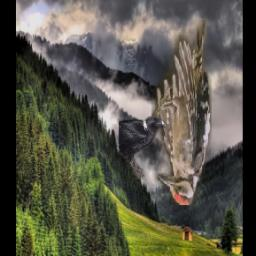Crow: (119, 115, 167, 180)
Woodpecker: (151, 21, 212, 206)
